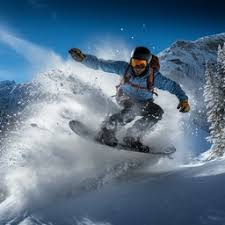snowboarder: (62, 42, 193, 161)
